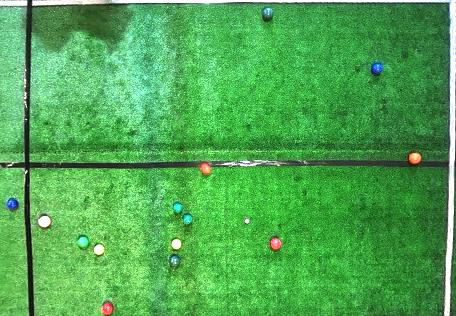blue: (7, 198, 19, 210), (372, 63, 384, 74)
green: (169, 255, 181, 267), (262, 8, 274, 19), (78, 236, 89, 248), (183, 214, 193, 225), (173, 203, 183, 213)
red: (37, 215, 51, 228), (409, 152, 422, 164), (102, 302, 114, 315), (270, 238, 282, 250), (200, 163, 210, 175)
vline: (1, 1, 36, 315), (440, 1, 455, 315)
white: (245, 219, 249, 224)
yellow: (171, 238, 182, 250), (93, 244, 105, 255)
